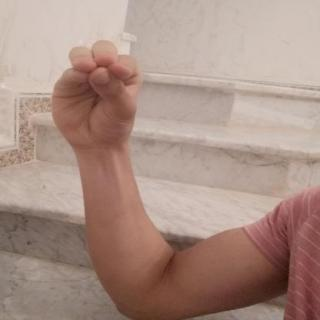HA: (31, 30, 156, 158)
